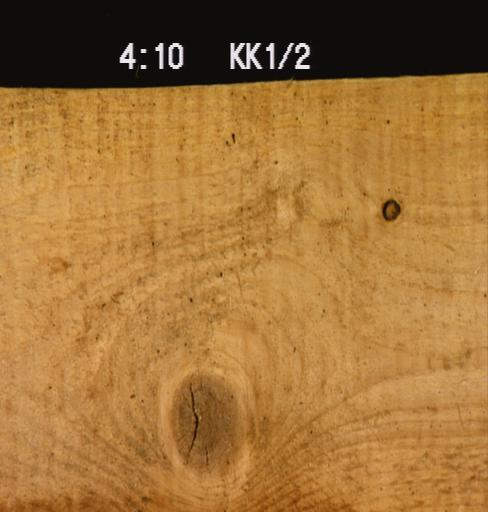sound_knot: (164, 368, 245, 475)
